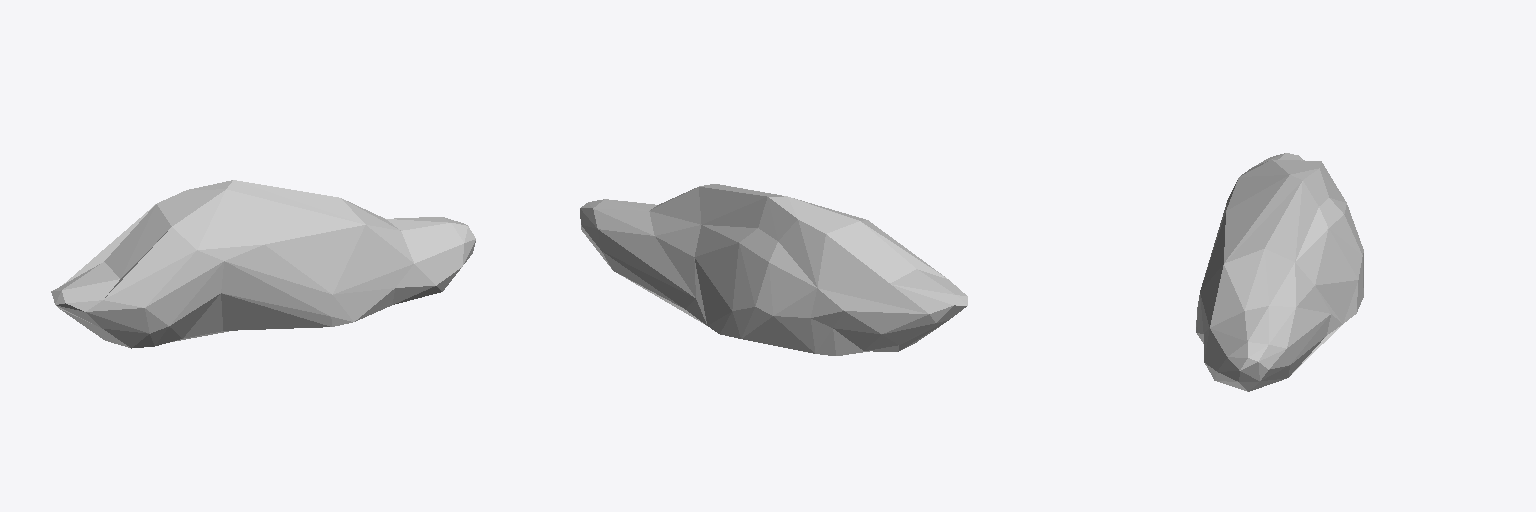
File: Clouds_3.obj
The picture shows the model from 3 angles: view 1: azimuth 30°, elevation 25°; view 2: azimuth 150°, elevation 25°; view 3: azimuth 270°, elevation 25°; orthographic projection.
Visible parts, largest first — view 1: Clouds_3_Icosphere.010; view 2: Clouds_3_Icosphere.010; view 3: Clouds_3_Icosphere.010.
Boxes of the visible parts, box(x1,y1,x2,y2) form: Clouds_3_Icosphere.010: box(51, 180, 475, 348); Clouds_3_Icosphere.010: box(580, 184, 967, 355); Clouds_3_Icosphere.010: box(1196, 153, 1363, 391).
Size of the model in its own units: 32.88 by 11.04 by 11.95.